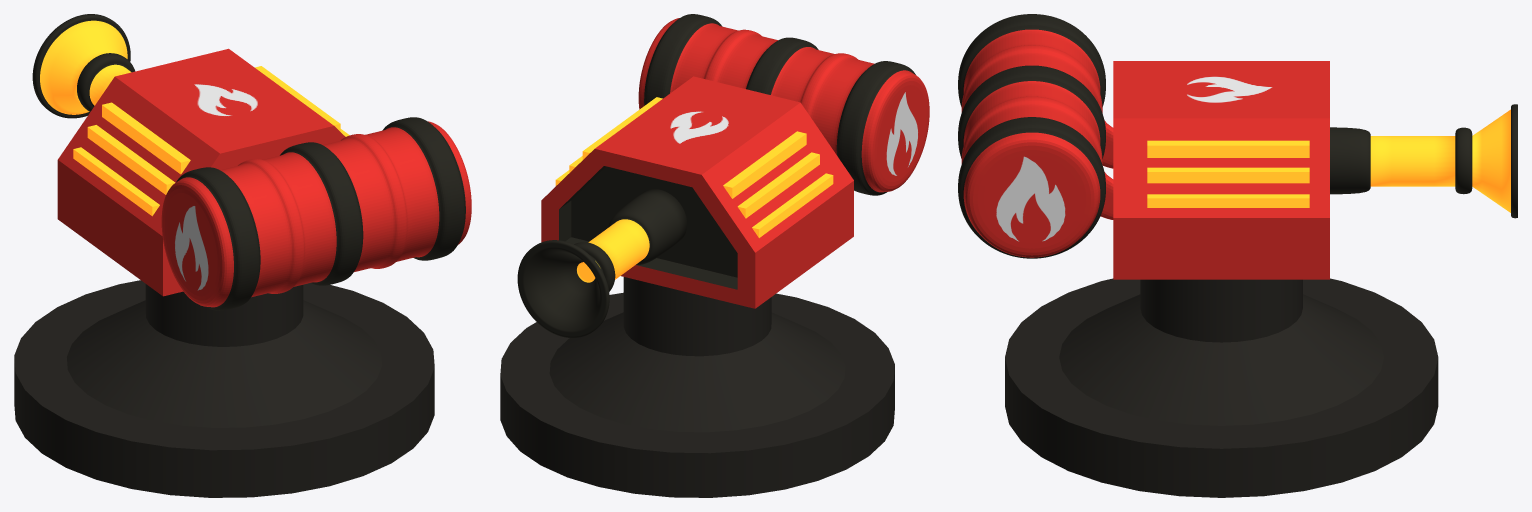
File: flamethrower_BF.fbx
3 renders of one model, left to right at view 1: azimuth 30°, elevation 25°; view 2: azimuth 150°, elevation 25°; view 3: azimuth 270°, elevation 25°, orthographic. The views are drawn at different scales.
Parts seen in each view (by area): view 1: Circle, Cylinder, turret, barrel, Cube; view 2: Circle, turret, Cylinder, barrel, Cube; view 3: Circle, turret, Cylinder, barrel, Cube.
Part boxes in pixels (bbox=[...]): Circle: bbox=[14, 280, 434, 497]; Cylinder: bbox=[161, 117, 471, 310]; turret: bbox=[57, 48, 345, 296]; barrel: bbox=[32, 14, 135, 118]; Cube: bbox=[73, 66, 349, 216]; Circle: bbox=[500, 277, 894, 497]; turret: bbox=[541, 76, 853, 308]; Cylinder: bbox=[638, 14, 929, 195]; barrel: bbox=[517, 189, 686, 337]; Cube: bbox=[555, 97, 833, 237]; Circle: bbox=[1005, 278, 1438, 497]; turret: bbox=[1113, 61, 1329, 279]; Cylinder: bbox=[958, 14, 1113, 258]; barrel: bbox=[1330, 104, 1517, 218]; Cube: bbox=[1147, 140, 1309, 207].
Size of the model in its own units: 160 by 137 by 207.
5 materials, 1 textured.
